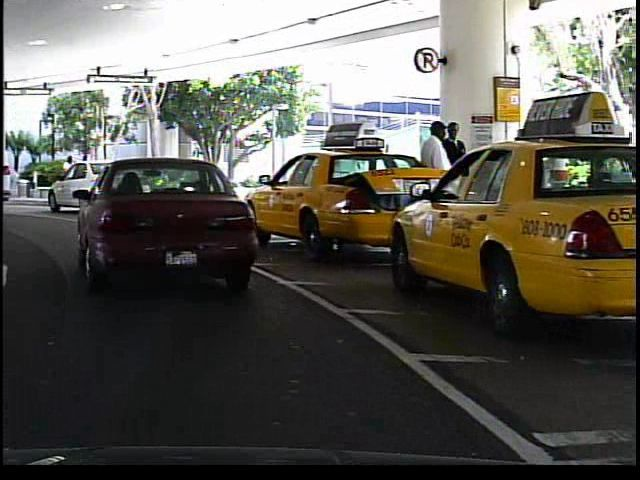person: (416, 119, 458, 242), (442, 117, 474, 236), (55, 152, 80, 197)
